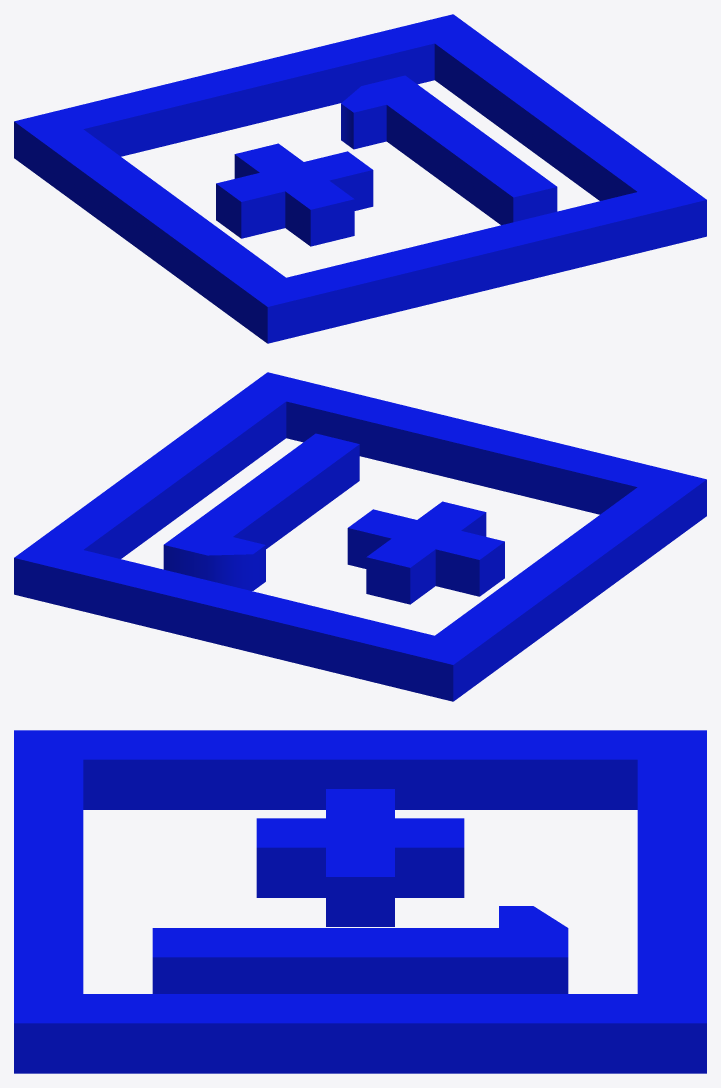
File: pu_lifePlus.fbx
3 views of the same model, one above another, from view 1: azimuth 30°, elevation 25°; view 2: azimuth 150°, elevation 25°; view 3: azimuth 270°, elevation 25° (orthographic). The views are drawn at different scales.
Visible parts, largest first — view 1: pu_lifePlus; view 2: pu_lifePlus; view 3: pu_lifePlus.
Boxes of the visible parts, bbox=[...] form: pu_lifePlus: bbox=[14, 14, 706, 343]; pu_lifePlus: bbox=[14, 372, 706, 701]; pu_lifePlus: bbox=[14, 730, 706, 1073].
Size of the model in its own units: 1 by 0.08 by 1.
